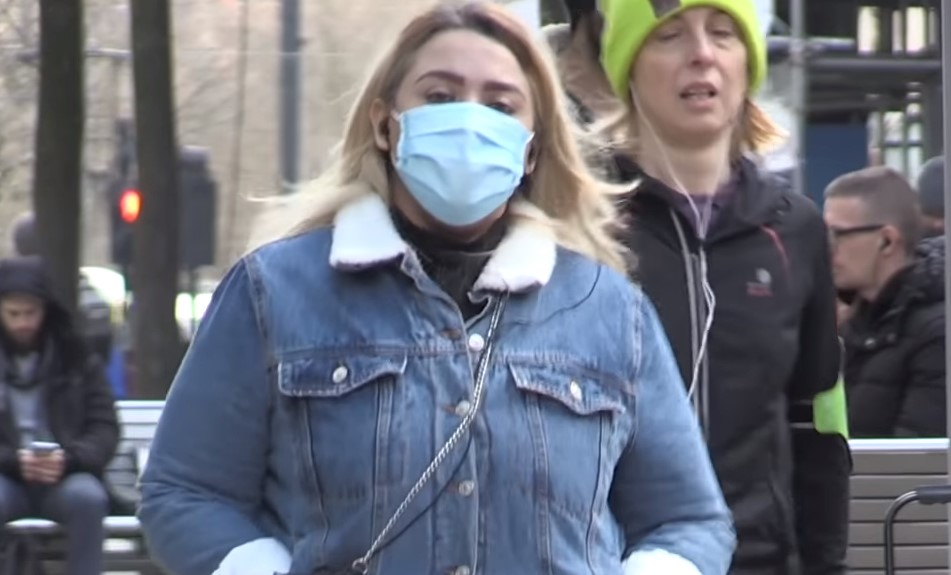face_no_mask: (589, 0, 768, 161)
face_with_mask: (362, 6, 565, 235)
